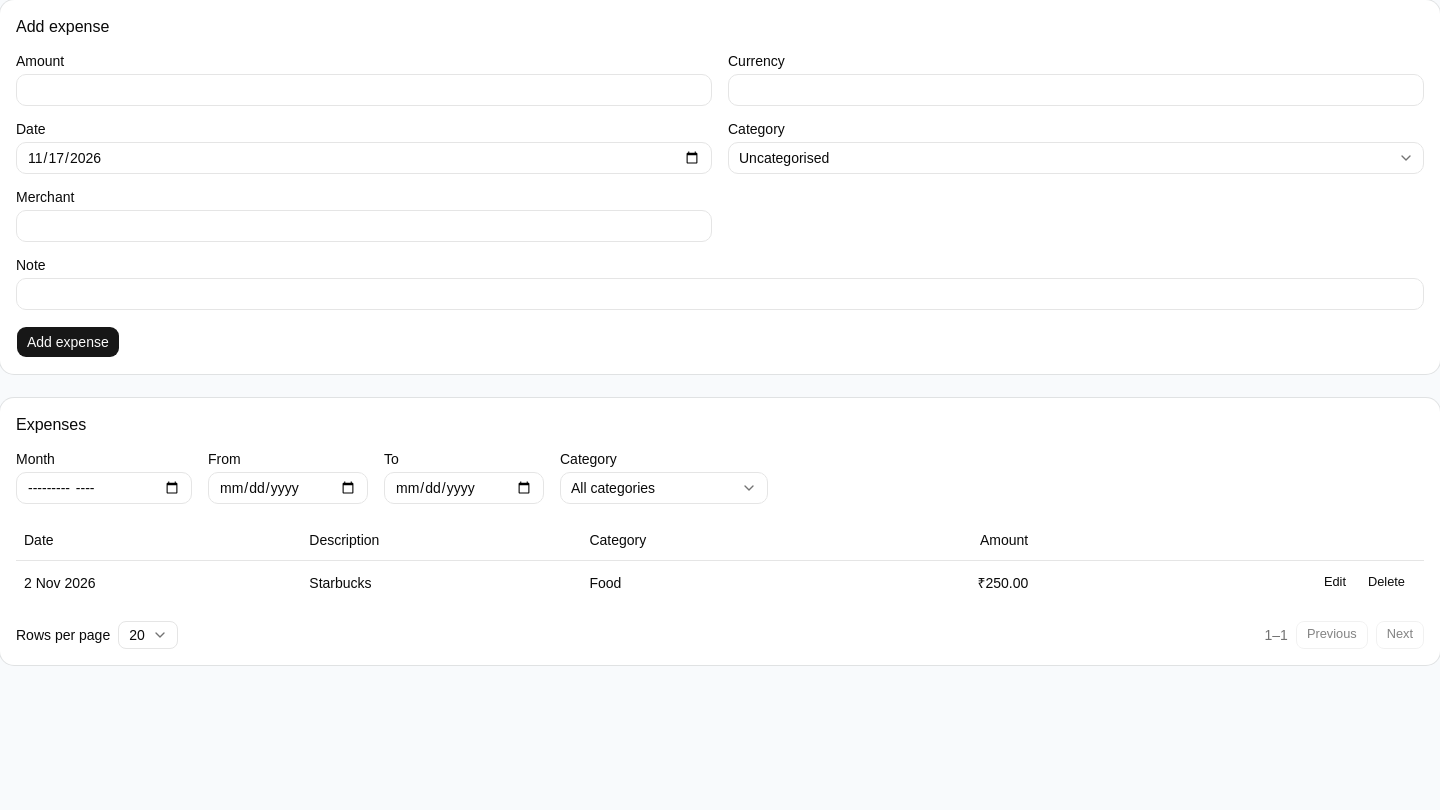
a failed delete shows the reason in the dialog and keeps the expense
Click the button with aria-label "Delete Starbucks".
click(1386, 582)  # box [1357, 568, 1416, 596]
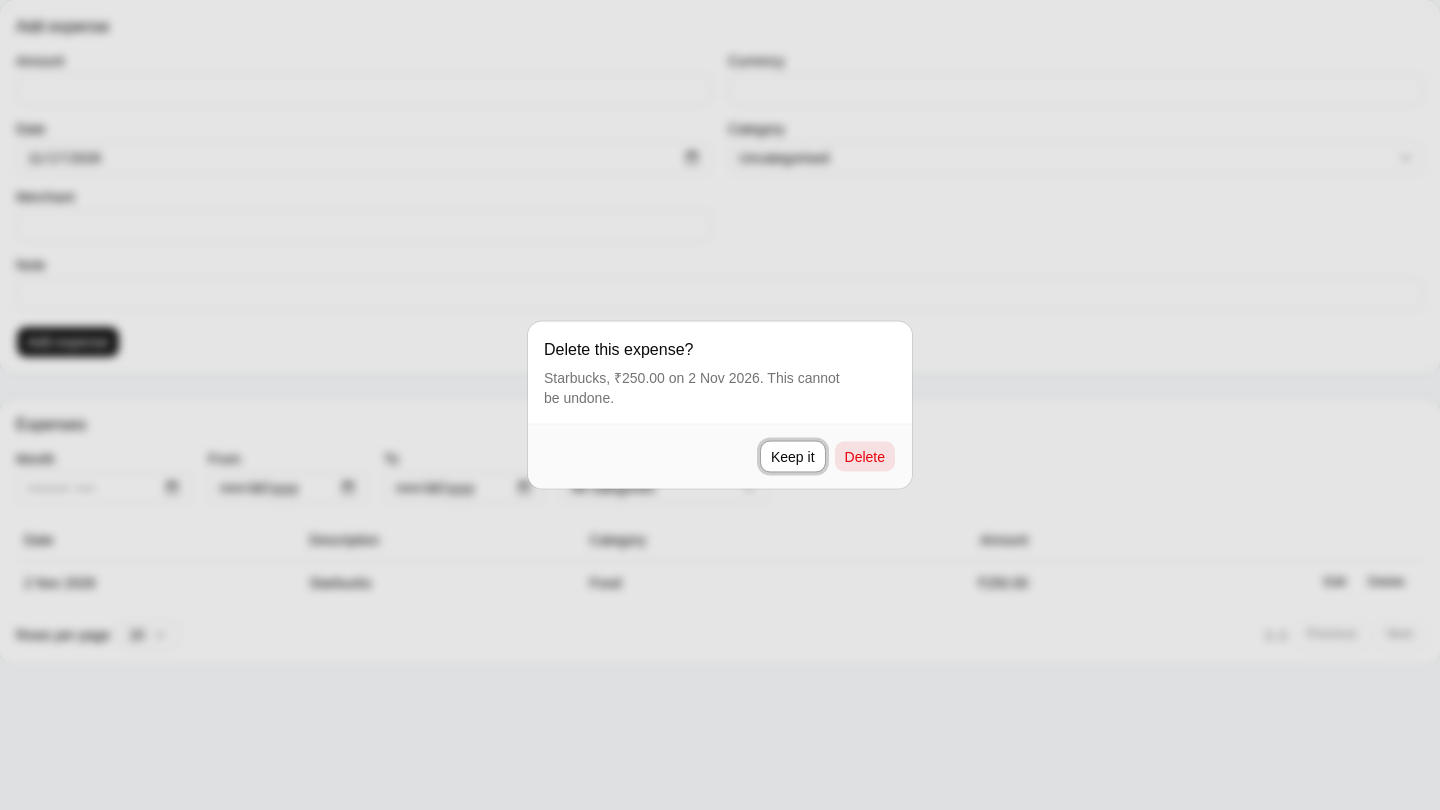
Click the button "Delete".
click(865, 456)  # box [834, 440, 896, 472]
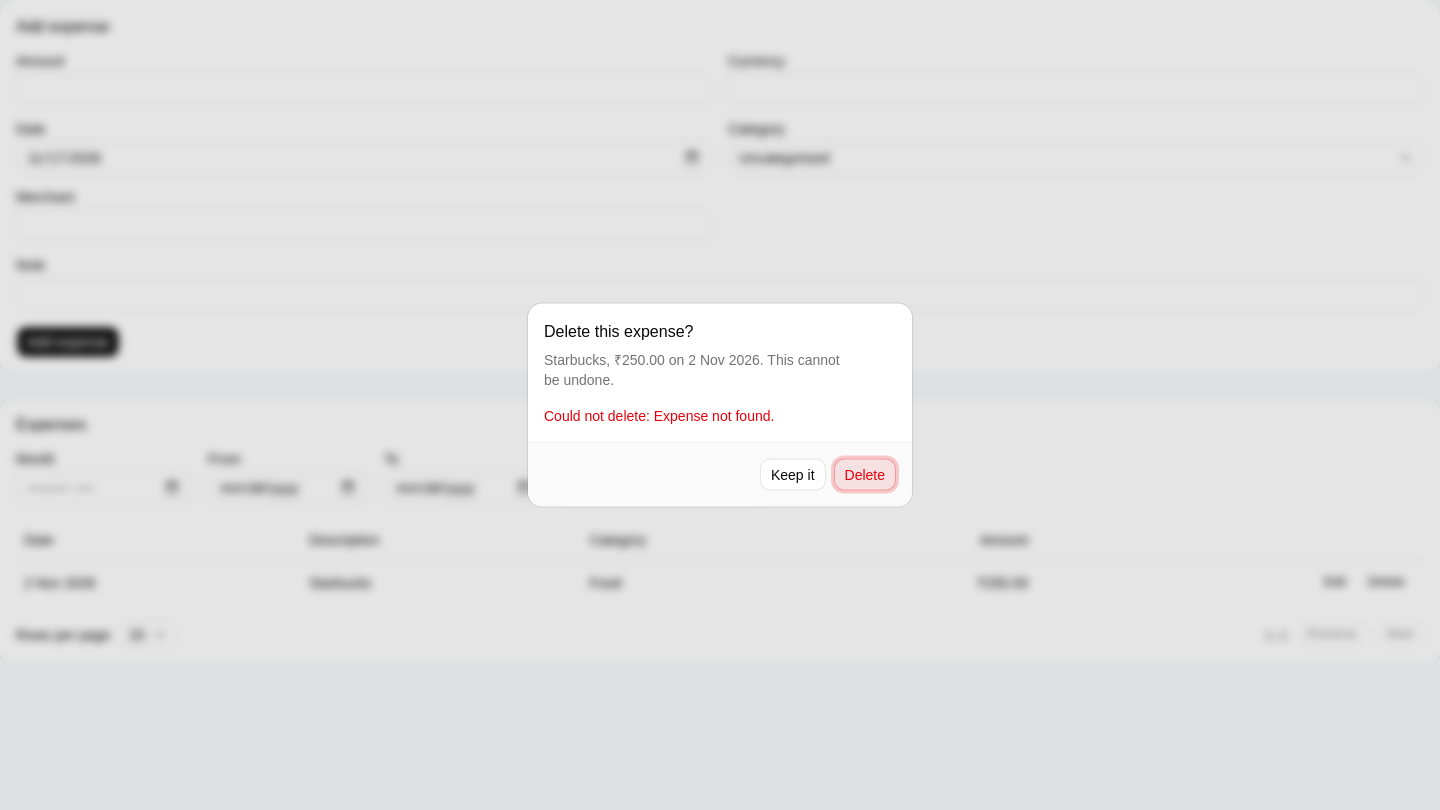
Expected: the text "Starbucks" is shown, [301, 560, 582, 604]
Expected: the dialog is shown, [528, 304, 912, 506]
Expected: the message reads "Could not delete: Expense not found.", [544, 408, 774, 424]
